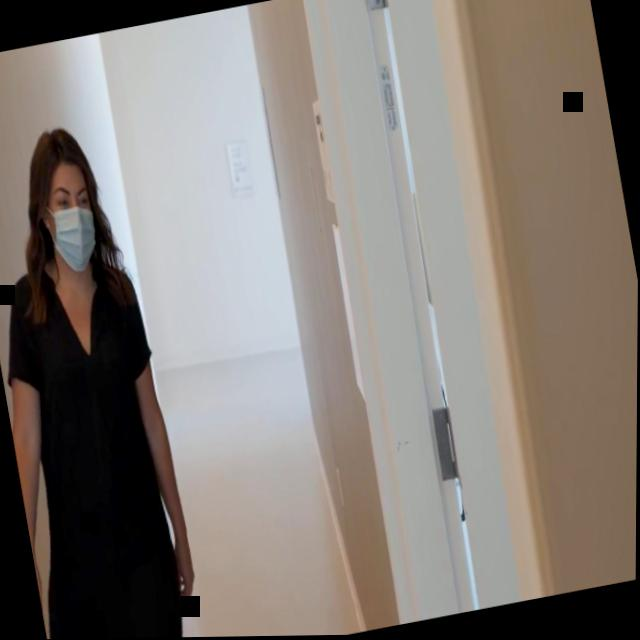Mask: (37, 160, 104, 277)
